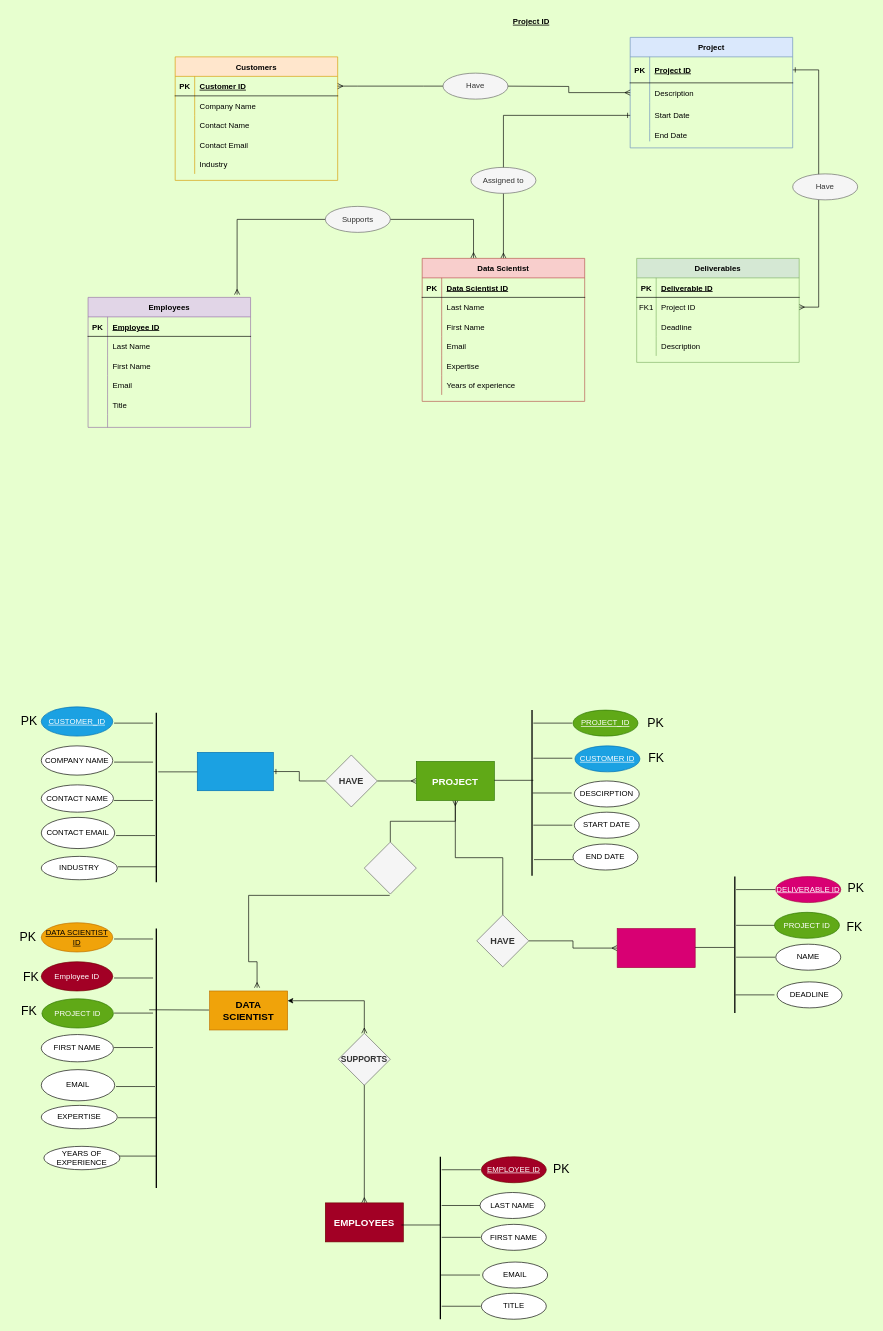
This 883x1331 diagram has some shape labels left out. The centre of each missing label's shape, as x and y in pixels:
ASSIGNED: [390,867]
CUSTOMER: [235,771]
DELIVERALES: [656,948]
